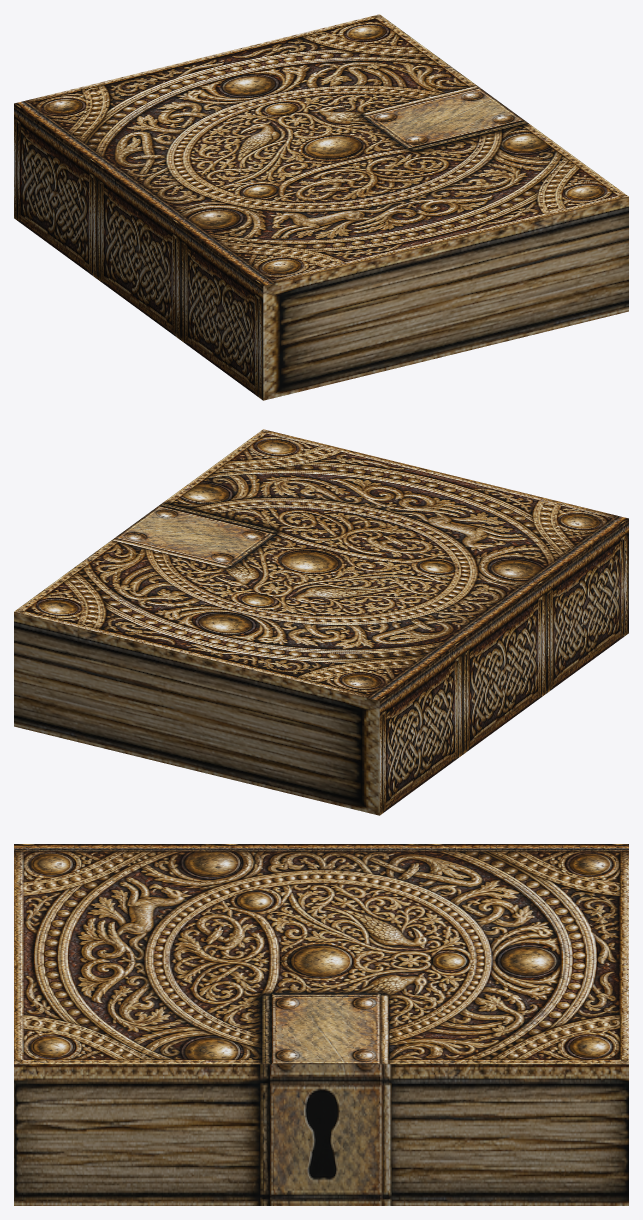
Rendered from mm9_deco_greatbookfake.glb.
The picture shows the model from 3 angles, top to bottom: view 1: azimuth 30°, elevation 25°; view 2: azimuth 150°, elevation 25°; view 3: azimuth 270°, elevation 25°; orthographic projection. The views are drawn at different scales.
Parts seen in each view (by area): view 1: Greatbookfake; view 2: Greatbookfake; view 3: Greatbookfake.
Boxes of the visible parts, <box> form: Greatbookfake: <box>14,14,628,400</box>; Greatbookfake: <box>14,429,628,815</box>; Greatbookfake: <box>14,844,628,1205</box>.
Size of the model in its own units: 0.6196 by 0.1859 by 0.7316.
1 material, 1 textured.
